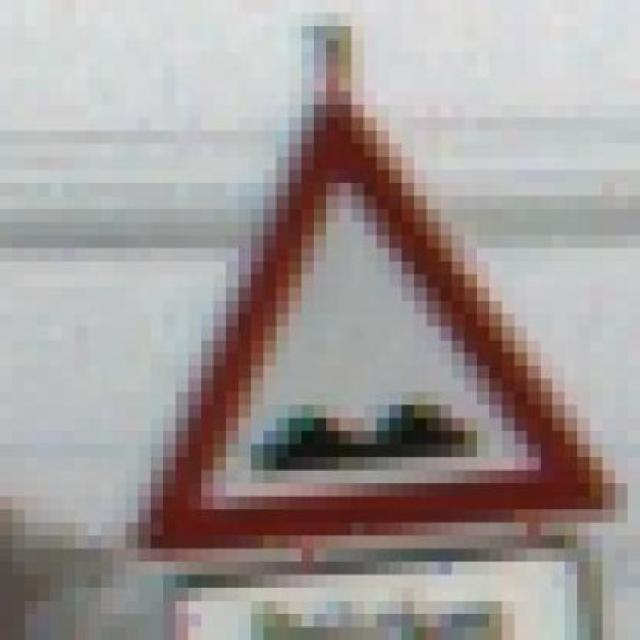Uneven Road: (100, 90, 628, 562)
